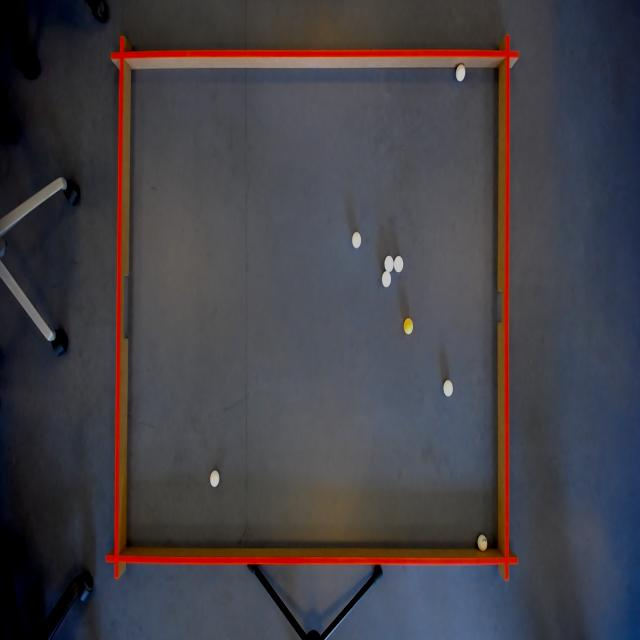orange_ball: (402, 315, 414, 339)
white_ball: (476, 530, 489, 552), (454, 64, 467, 86), (352, 230, 364, 251), (442, 379, 454, 399), (394, 255, 405, 276), (209, 470, 220, 490), (384, 253, 394, 274), (381, 270, 392, 289)
